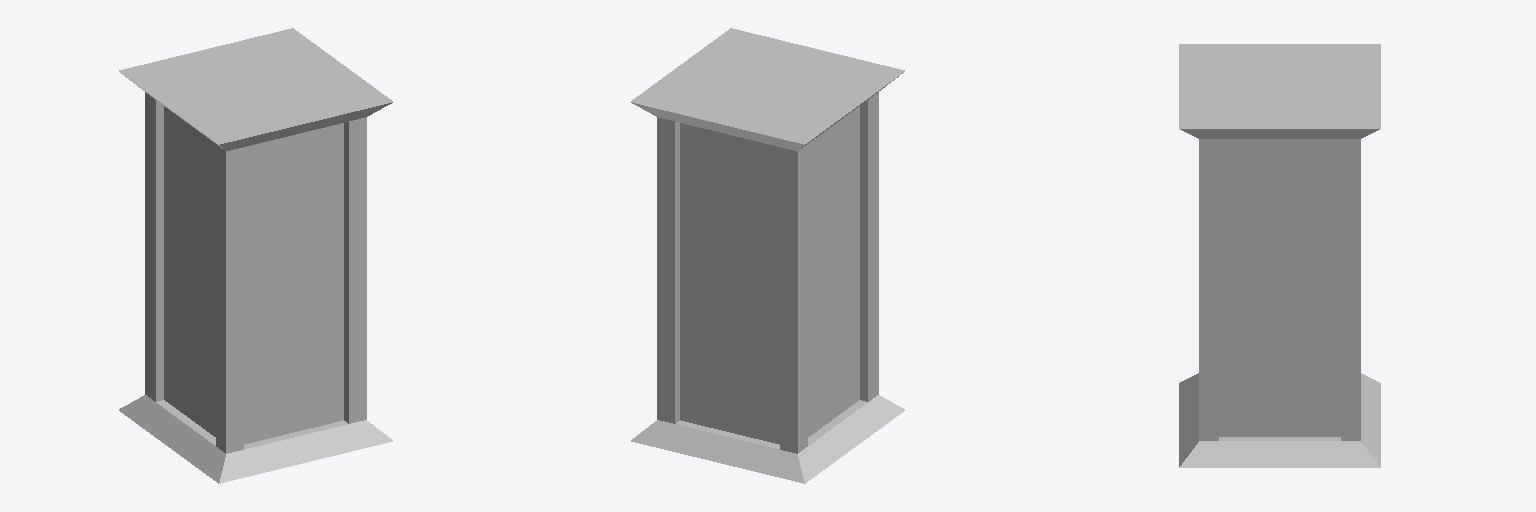
The model's file is lantern.obj.
3 renders of one model, left to right at view 1: azimuth 30°, elevation 25°; view 2: azimuth 150°, elevation 25°; view 3: azimuth 270°, elevation 25°, orthographic.
Visible parts, largest first — view 1: Pane_Plane, Base_Cube.005, Post1_Cube.006; view 2: Pane_Plane, Base_Cube.005, Post1_Cube.006; view 3: Pane_Plane, Base_Cube.005, Post1_Cube.006.
Boxes of the visible parts, box(x1,y1,x2,y2) form: Pane_Plane: box(164, 106, 343, 444); Base_Cube.005: box(119, 28, 392, 483); Post1_Cube.006: box(145, 92, 366, 453); Pane_Plane: box(680, 106, 859, 444); Base_Cube.005: box(631, 28, 904, 483); Post1_Cube.006: box(657, 92, 878, 453); Pane_Plane: box(1219, 139, 1340, 436); Base_Cube.005: box(1179, 44, 1380, 467); Post1_Cube.006: box(1199, 139, 1360, 440).
Size of the model in its own units: 1 by 1.85 by 1.